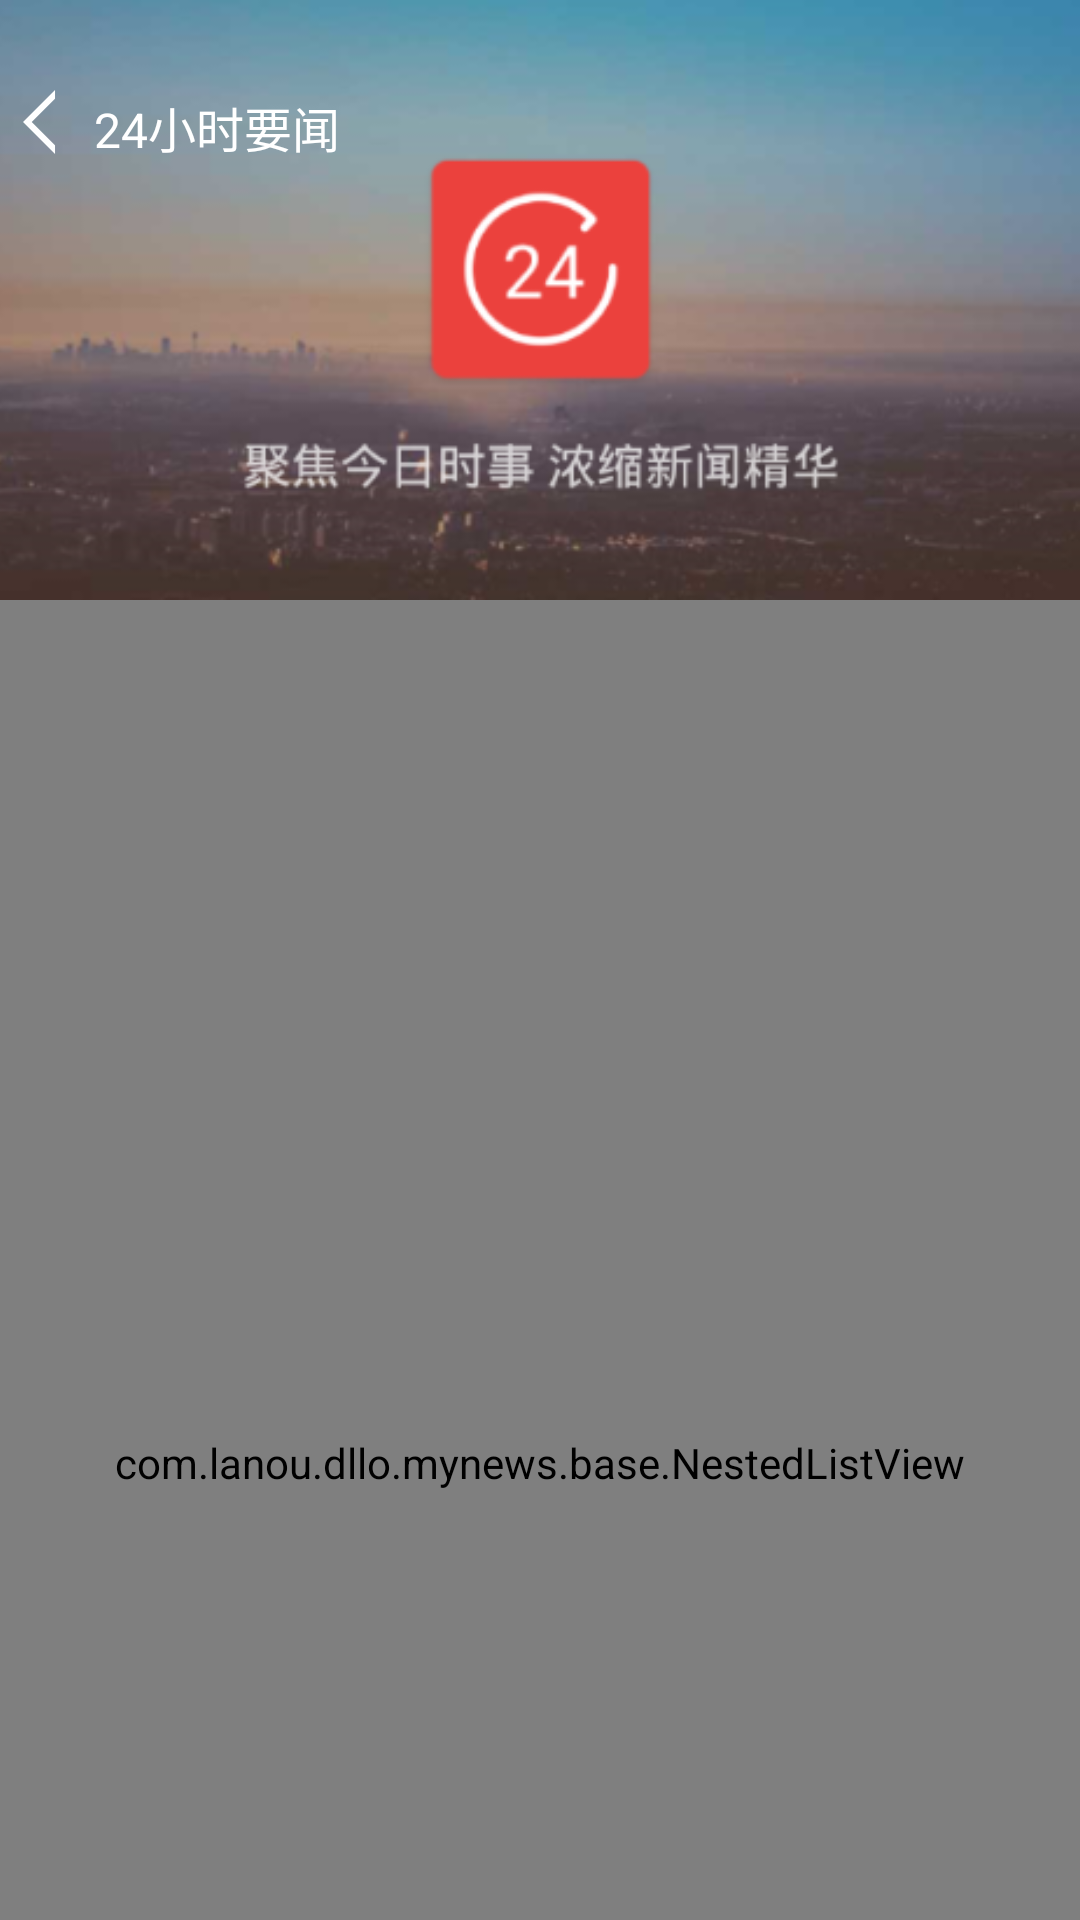

Icon click points for this 1080*1920 phone screenshot, format [x,y]:
back: [39,122]
